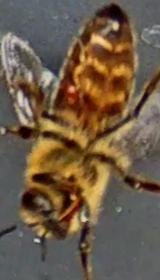varroa_mite: (50, 73, 88, 112)
